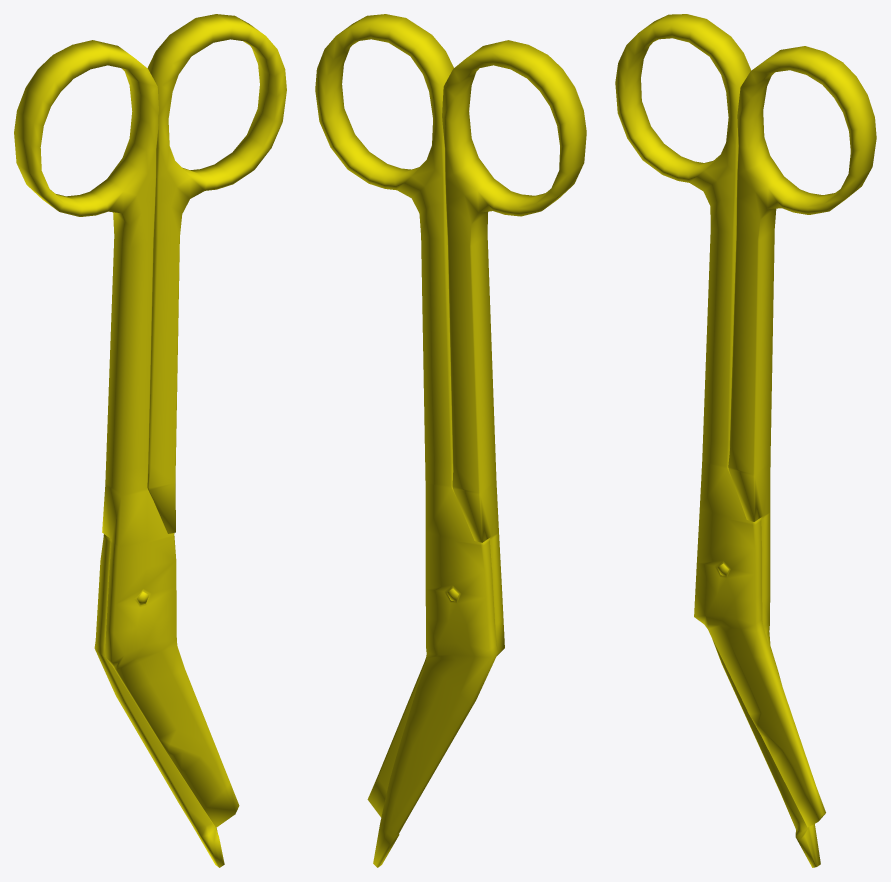
The model's file is bendy_scissor1.fbx.
The picture shows the model from 3 angles, left to right: view 1: azimuth 30°, elevation 25°; view 2: azimuth 150°, elevation 25°; view 3: azimuth 330°, elevation 25°; orthographic projection. The views are drawn at different scales.
Visible parts, largest first — view 1: Plane.004; view 2: Plane.004; view 3: Plane.004.
Boxes of the visible parts, <box> form: Plane.004: <box>14,14,286,867</box>; Plane.004: <box>315,14,586,867</box>; Plane.004: <box>615,14,876,867</box>.
Size of the model in its own units: 144 by 459 by 17.8.
